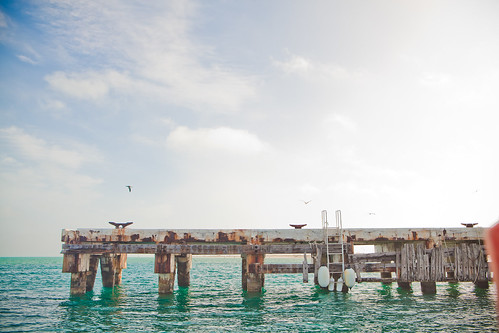bridge: (70, 216, 486, 293)
sea: (15, 261, 499, 333)
sky: (1, 1, 491, 217)
